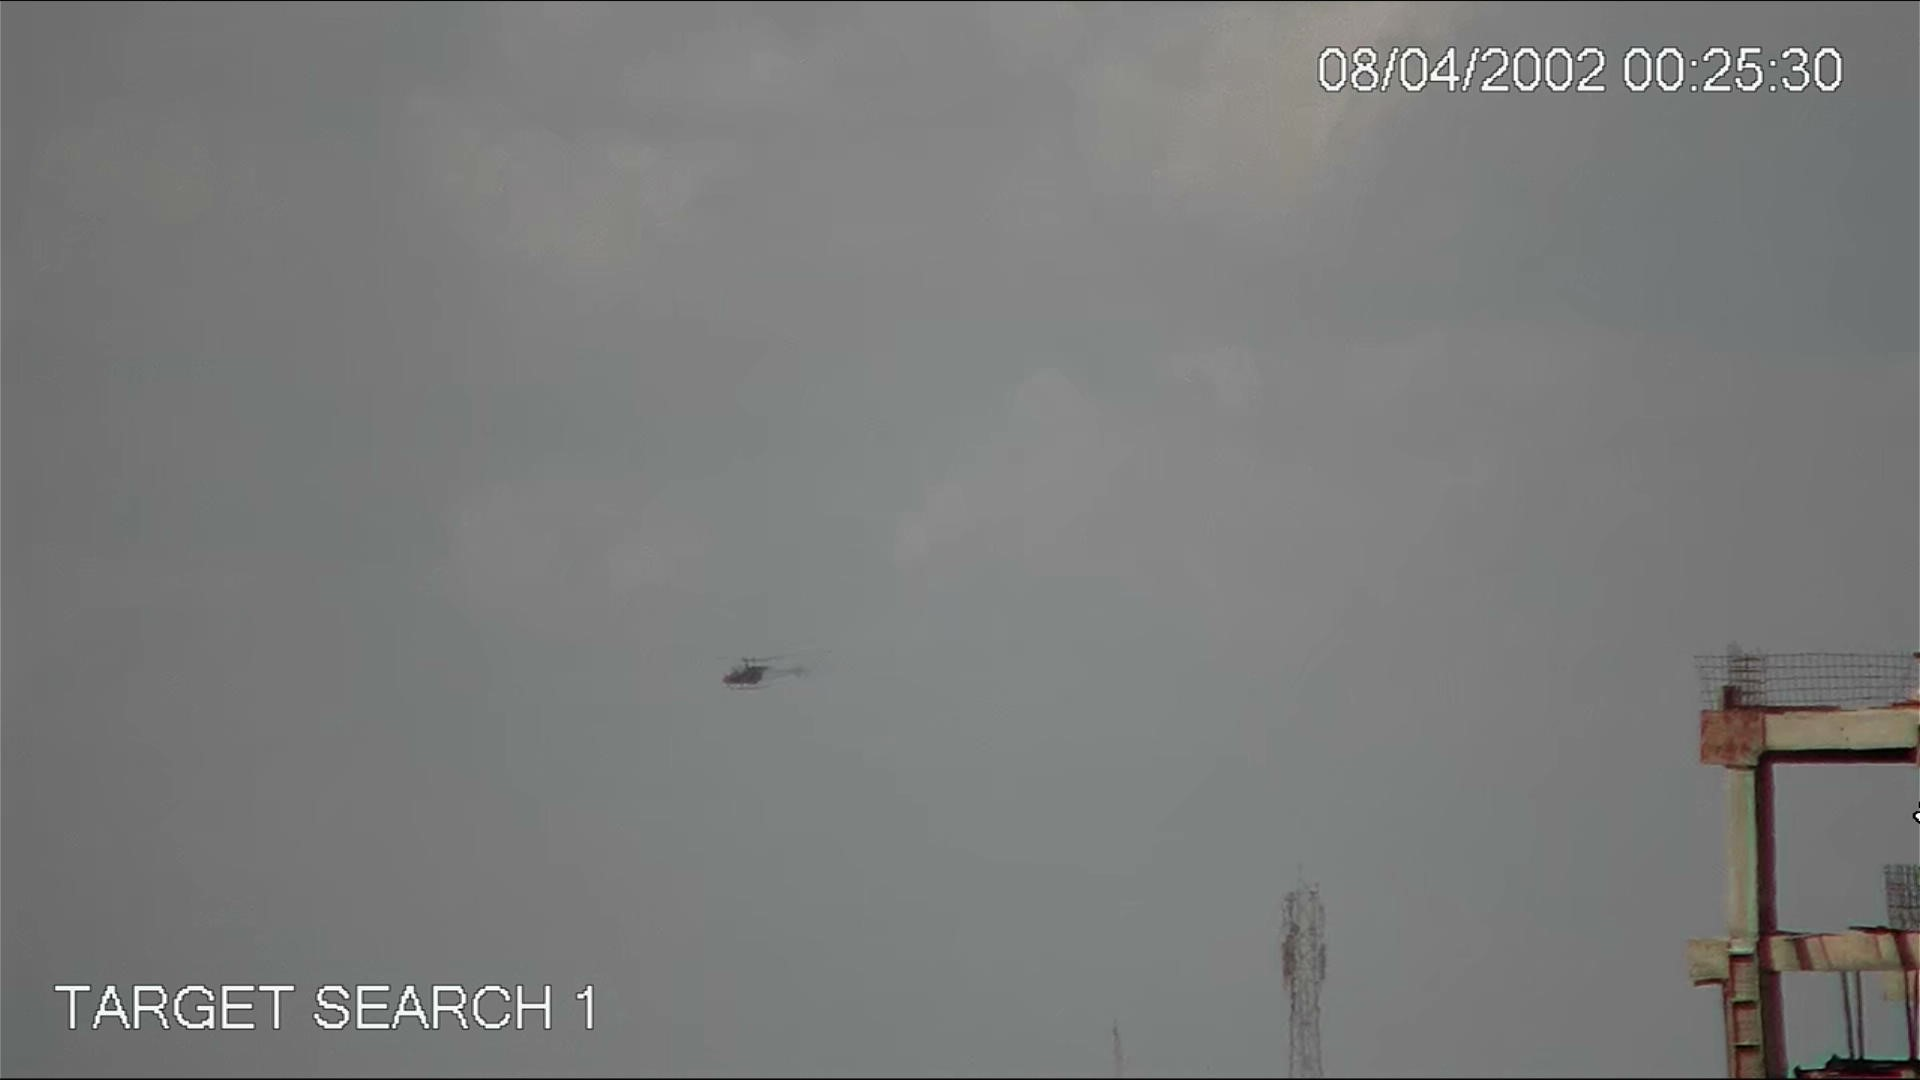SU_30: (702, 645, 820, 698)
